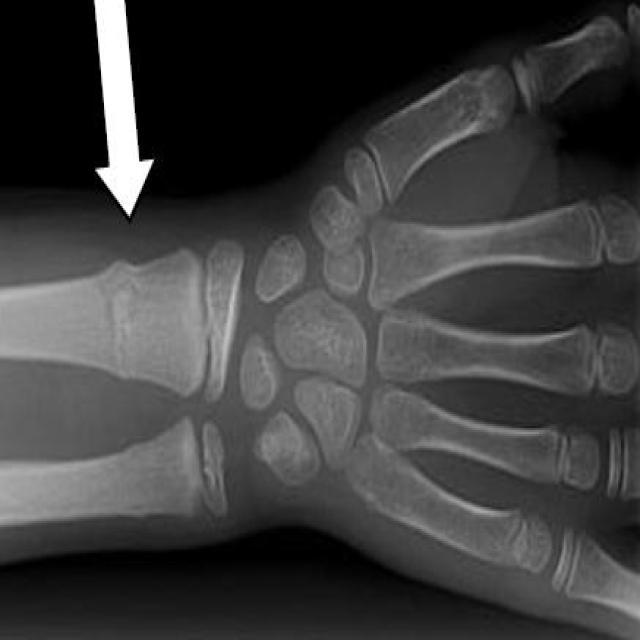bone: (92, 252, 144, 392)
